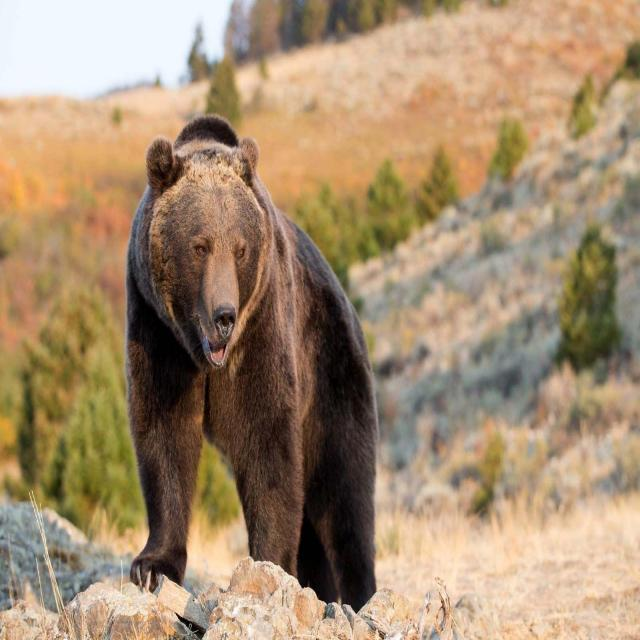Bear: (124, 116, 380, 615)
